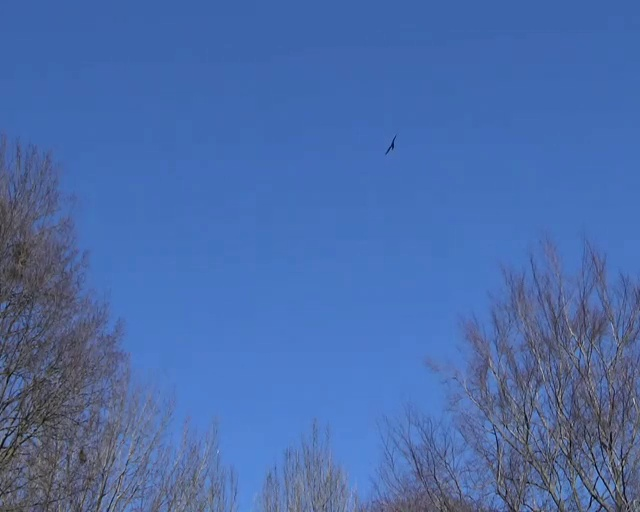BIRD: (385, 134, 397, 154)
